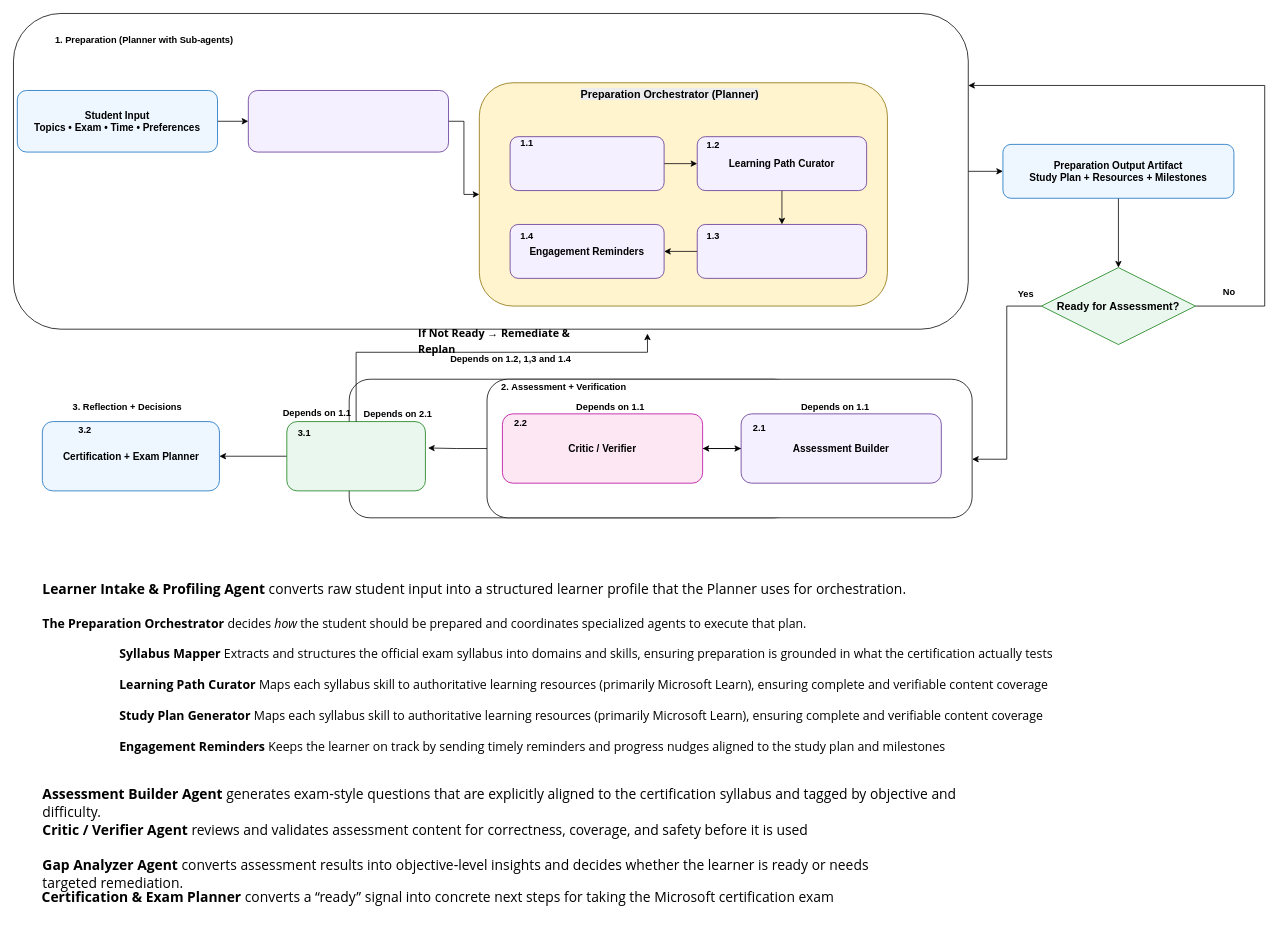
Image size: 1284x946. Some labels were removed from this diagram. Each missing label, with the box of its shape:
Gap Analyzer & Reflection: (286, 421, 425, 491)
Learner Intake & Structuring: (248, 90, 449, 152)
Syllabus Mapper: (509, 136, 664, 191)
Text Study Plan Generator: (696, 224, 867, 278)
